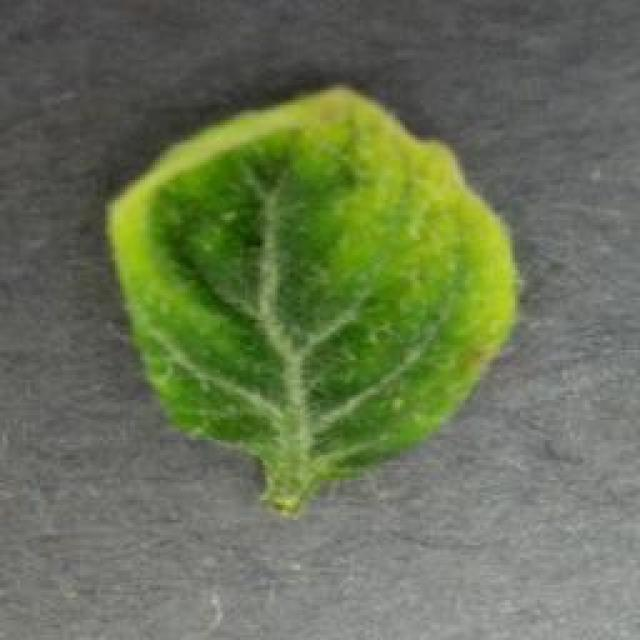Tomato yellow virus leaf: (101, 82, 524, 480)
